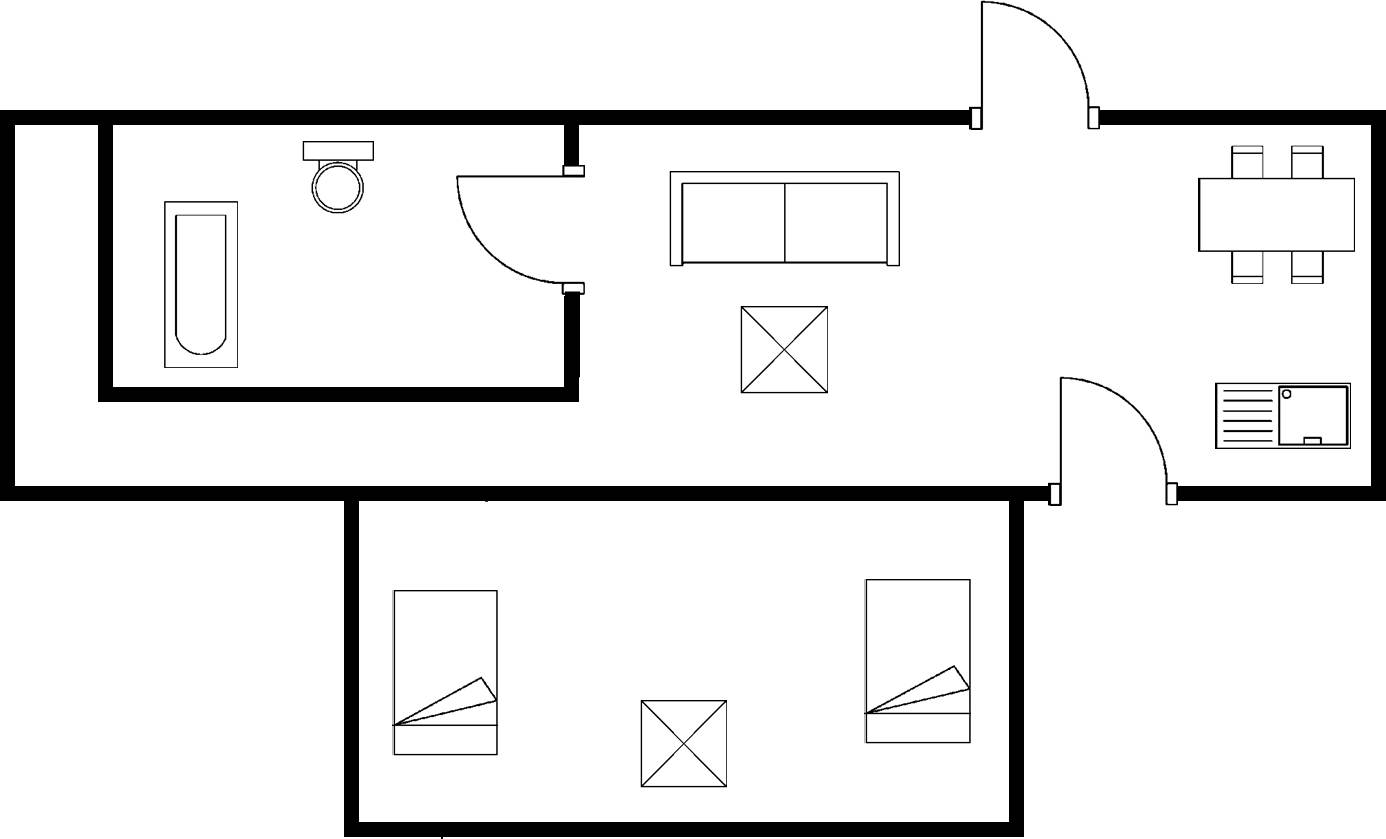bed: (386, 583, 505, 762), (860, 572, 975, 749)
coffee_table: (634, 693, 735, 796), (734, 300, 835, 401)
dining_table: (1190, 138, 1362, 289)
large_sink: (298, 136, 380, 221)
large_sofa: (661, 165, 906, 274)
sink: (1207, 376, 1356, 457)
tub: (157, 196, 247, 372)
